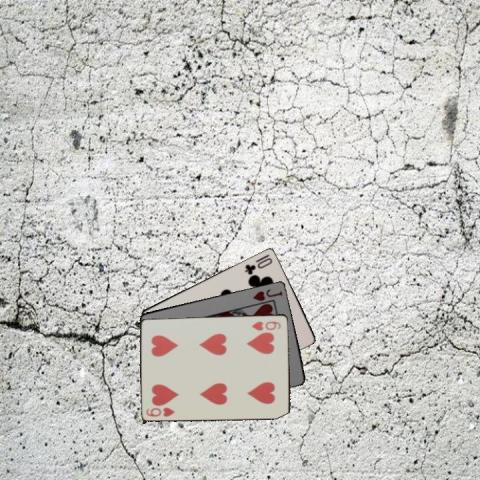10c: (242, 251, 274, 276)
6h: (248, 318, 282, 331), (143, 406, 176, 418)
Jh: (250, 286, 284, 302)
